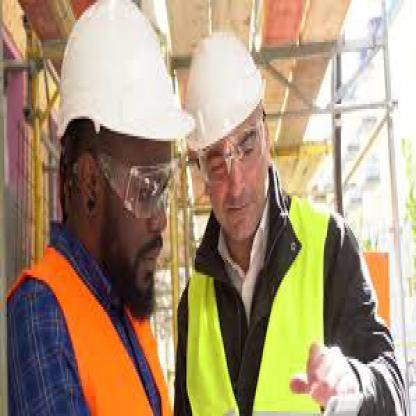Glove: (58, 0, 186, 141), (184, 32, 266, 151)
